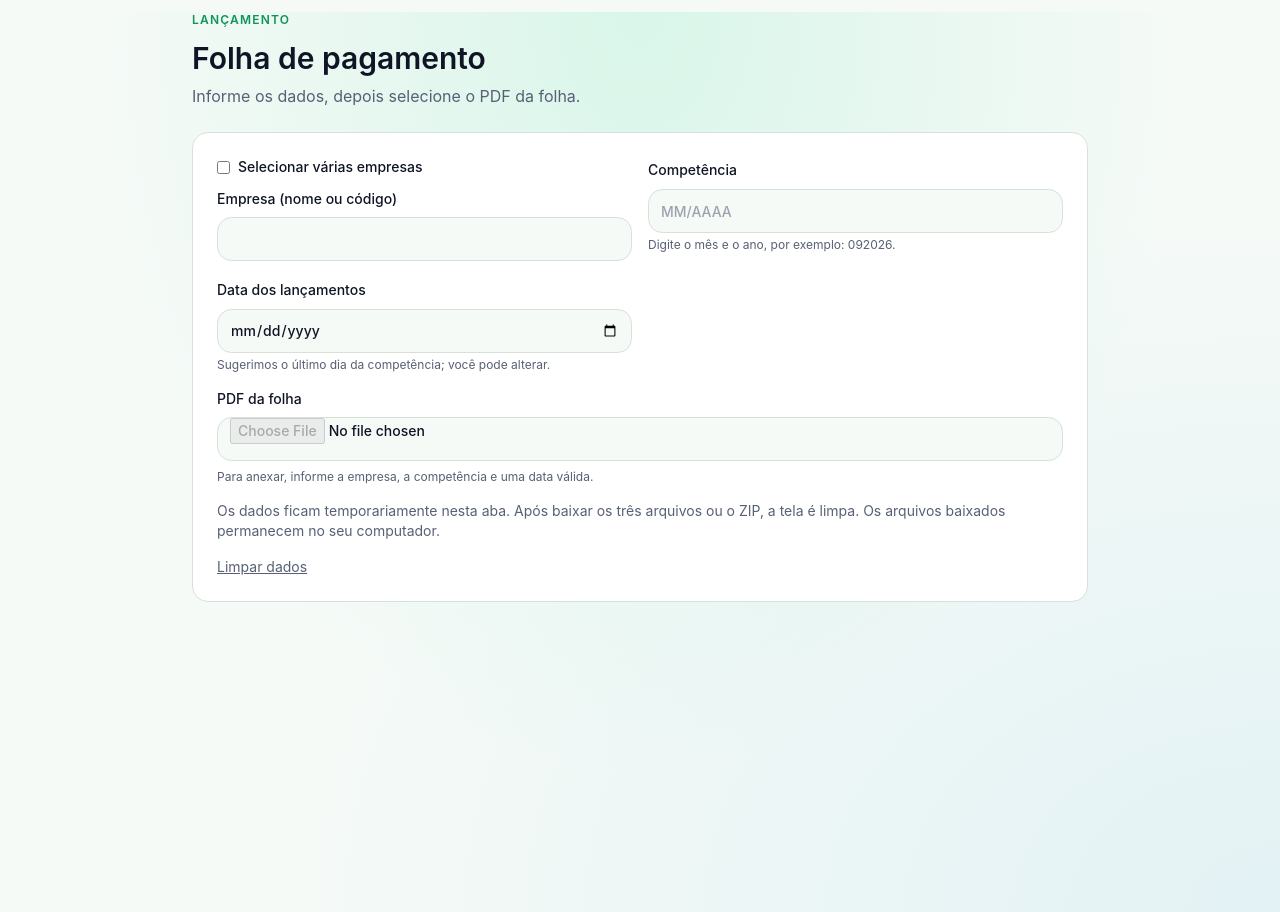
Test: limpeza de dados da folha › aceita digitação contínua e impede mês inválido
This screenshot has width=1280, height=912.
Type "0" into the field labelled "Competência" at (856, 211), box [648,189,1063,233]
Replace the text in the field labelled "Competência" with "09" at (856, 211), box [648,189,1063,233]
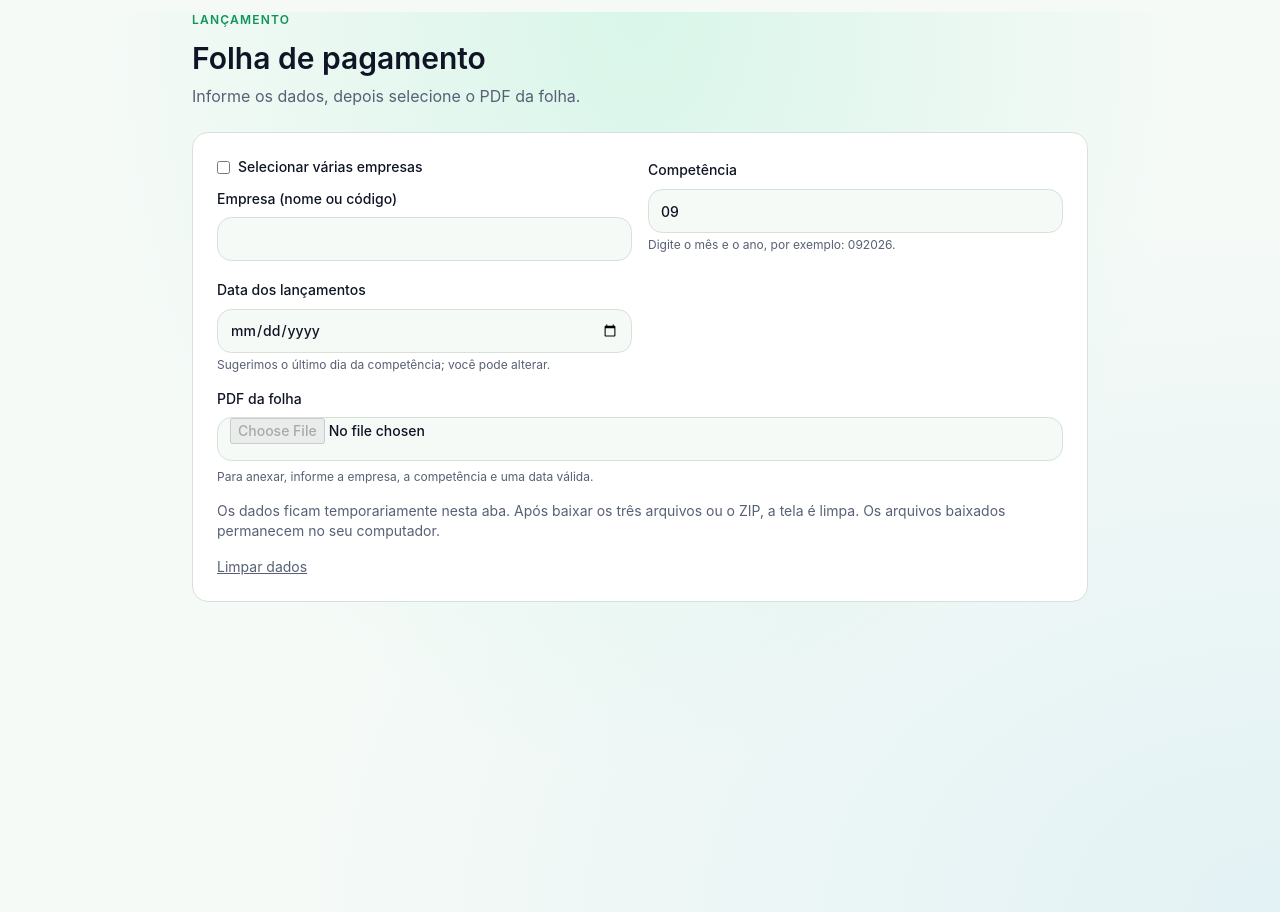
Replace the text in the field labelled "Competência" with "092" at (856, 211), box [648,189,1063,233]
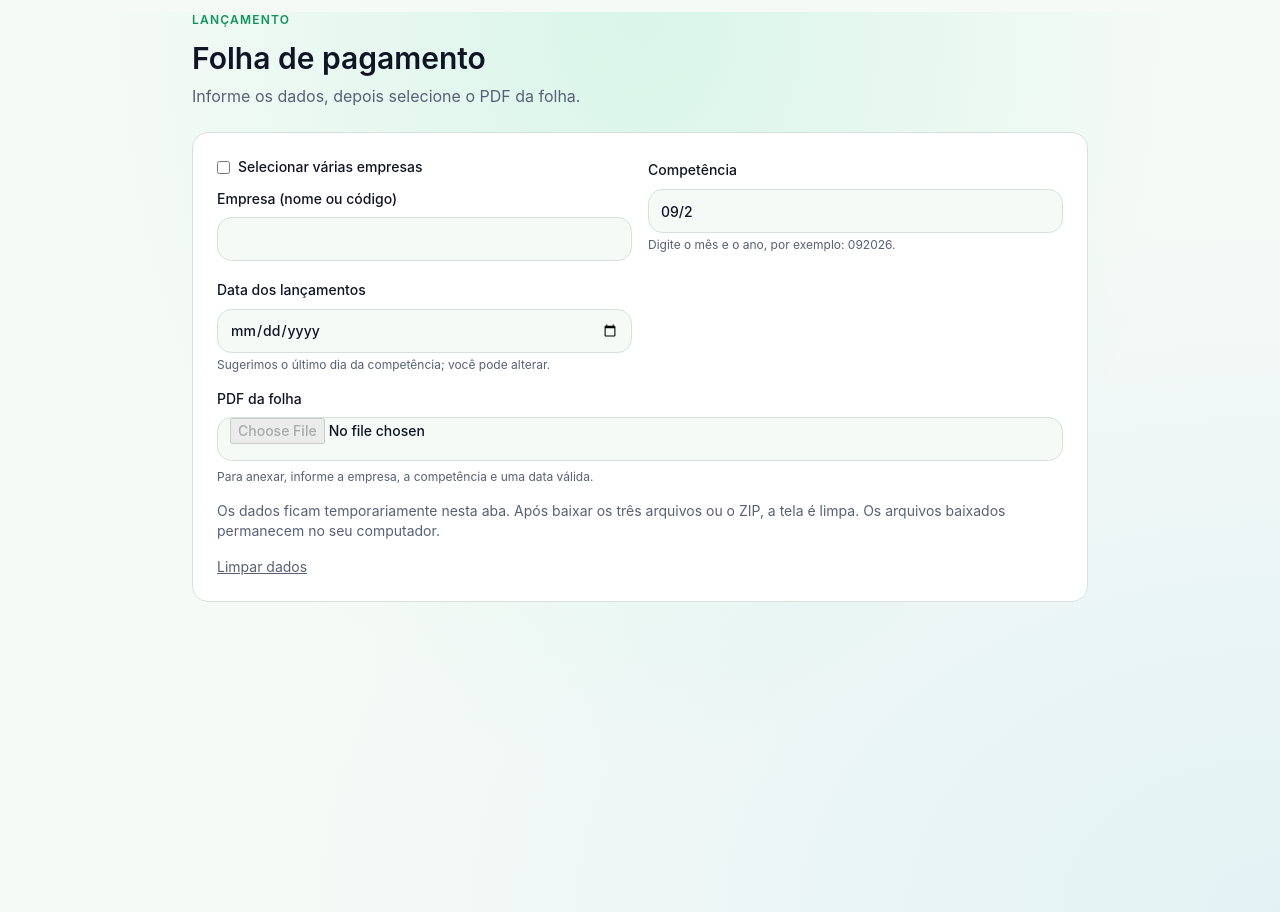
Replace the text in the field labelled "Competência" with "09/20" at (856, 211), box [648,189,1063,233]
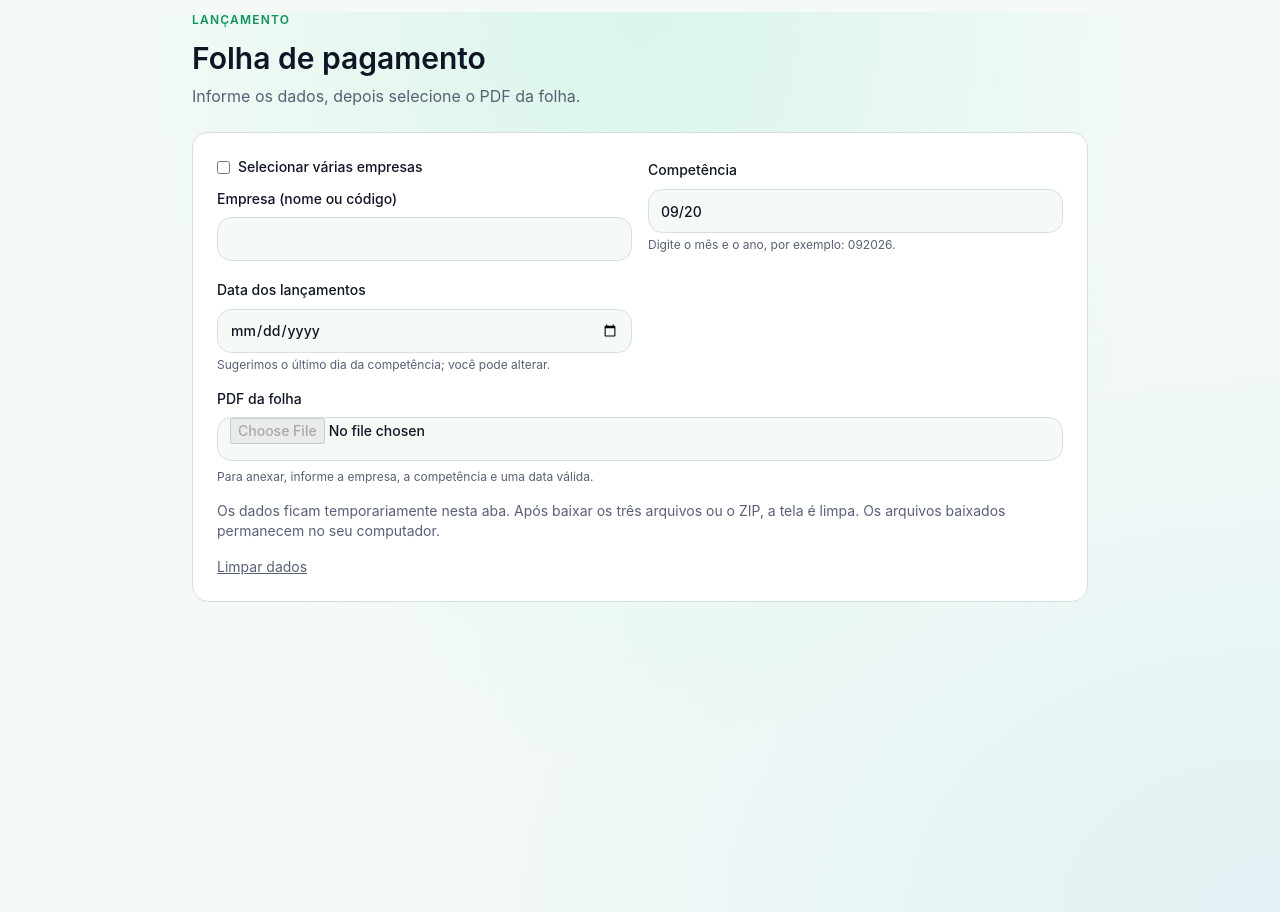
Replace the text in the field labelled "Competência" with "09/202" at (856, 211), box [648,189,1063,233]
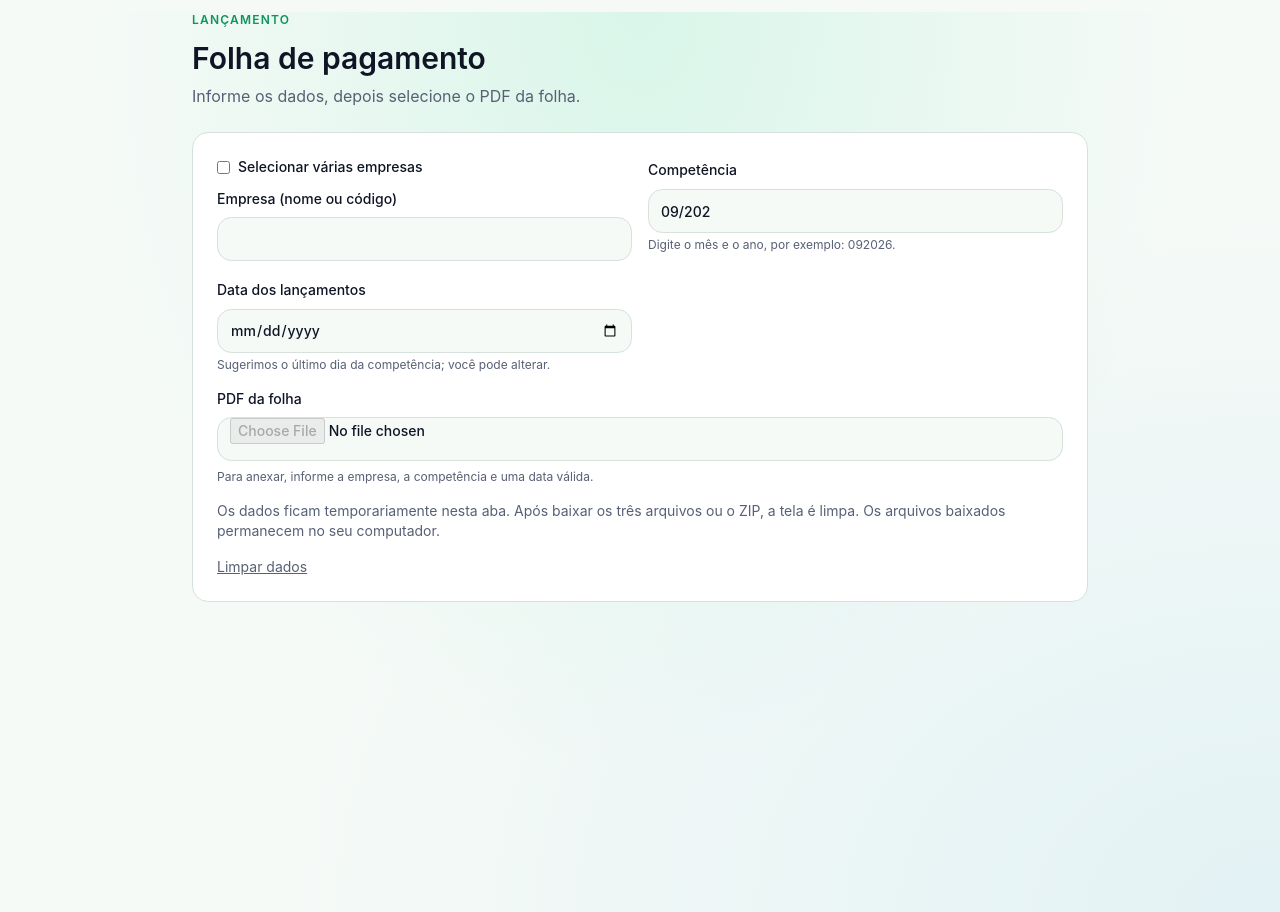
Replace the text in the field labelled "Competência" with "09/2026" at (856, 211), box [648,189,1063,233]
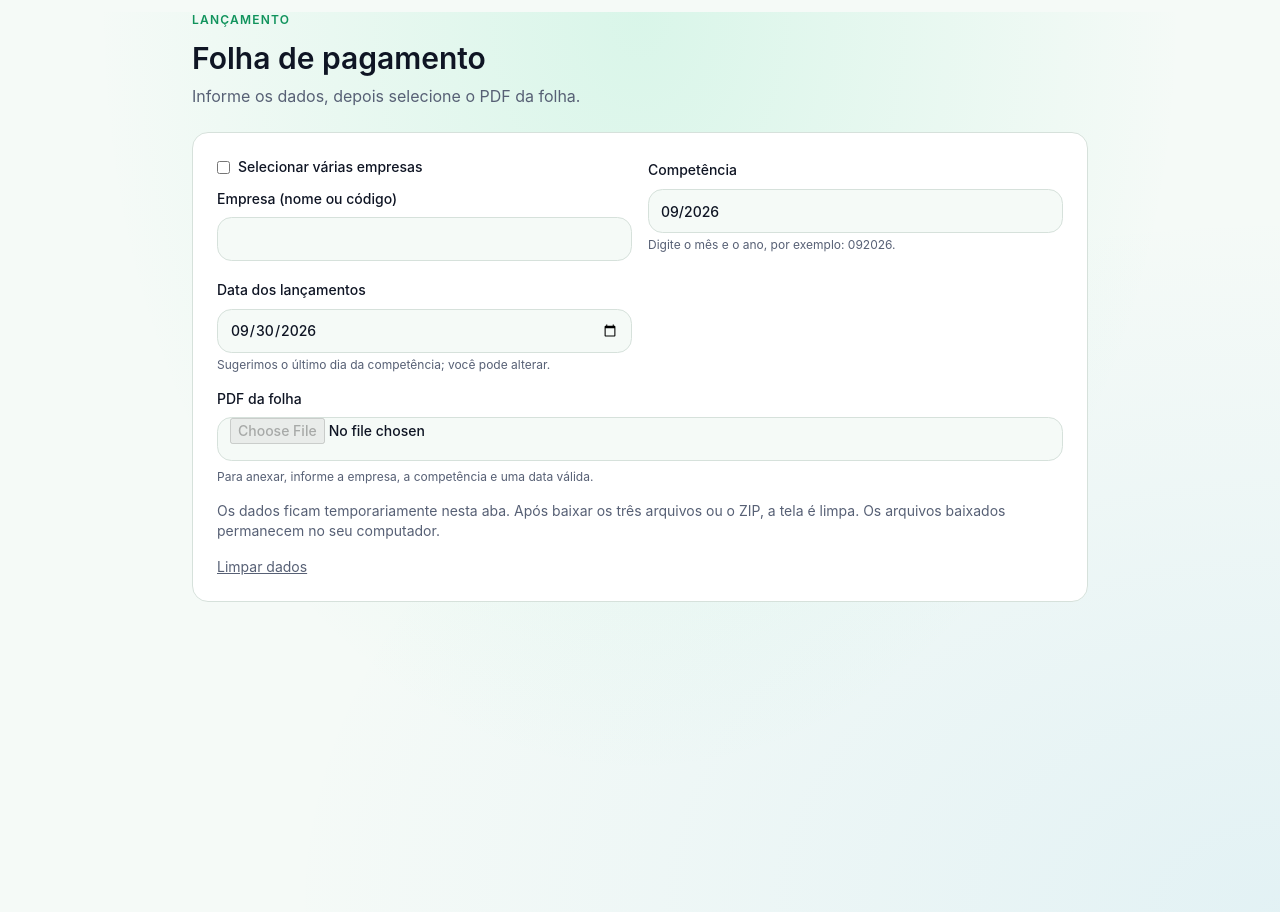
Expected: the date field labelled "Data dos lançamentos" holds "2026-09-30", [217,309,632,353]
Replace the text in the field labelled "Competência" with "132026" at (856, 211), box [648,189,1063,233]
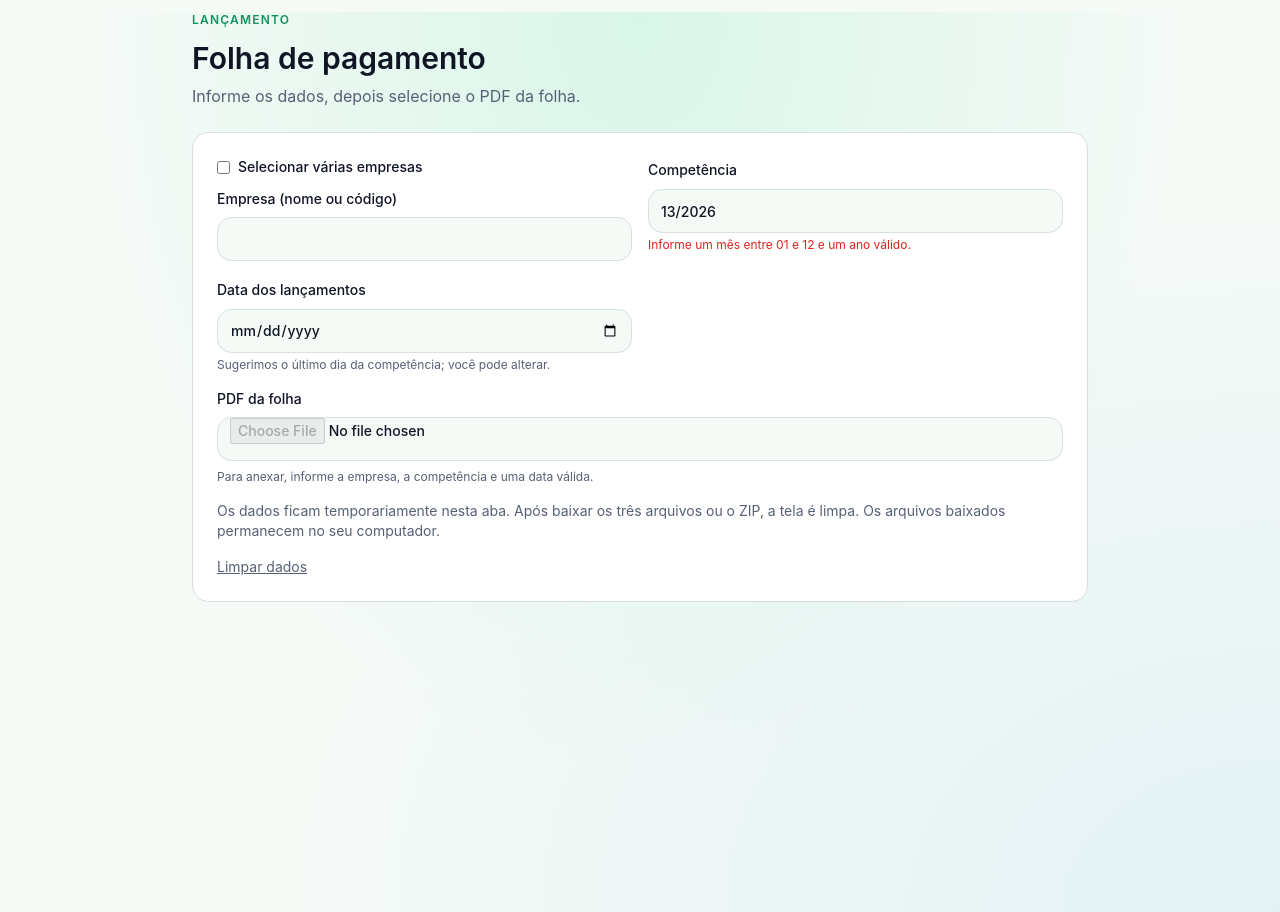
Expected: the file field labelled "PDF da folha" is disabled, [217,417,1063,461]
Expected: the text "Informe um mês entre 01 e 12 e um ano válido." is shown, [648,237,911,252]
